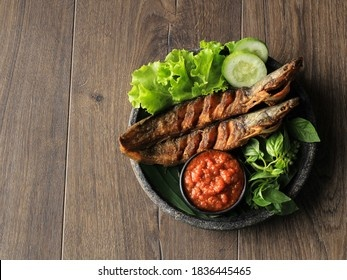pecel_lele: (114, 100, 300, 152), (164, 84, 306, 141)
